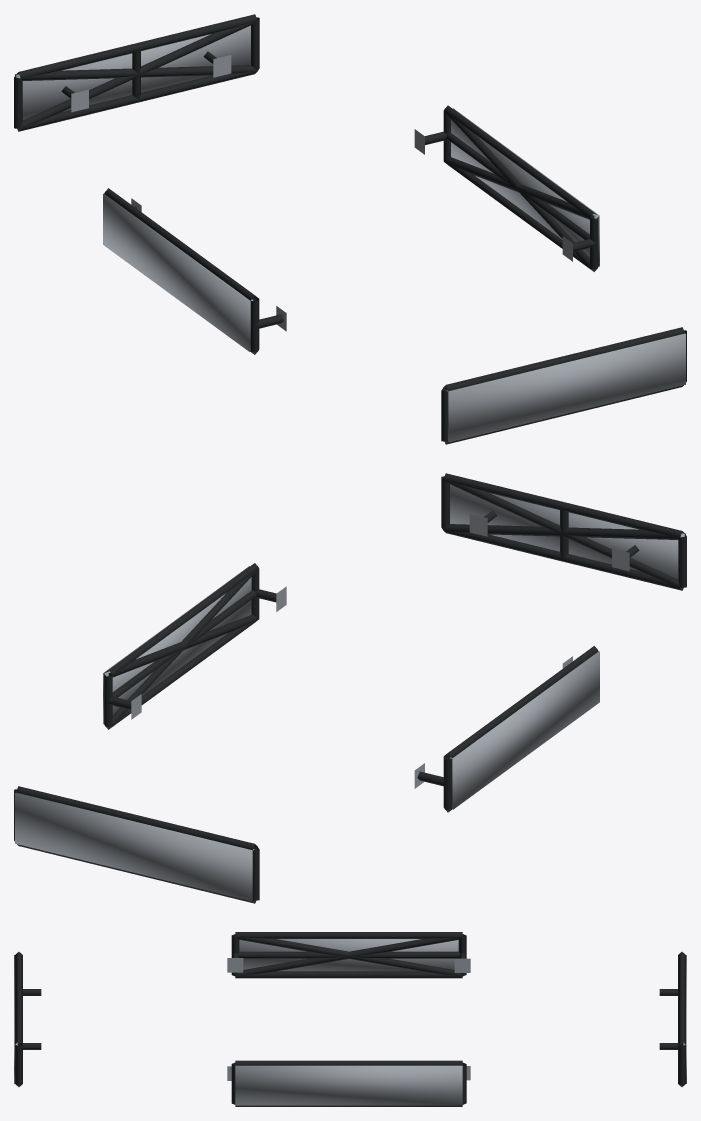
File: vantra_silencio_protecao.glb
The picture shows the model from 3 angles, top to bottom: view 1: azimuth 30°, elevation 25°; view 2: azimuth 150°, elevation 25°; view 3: azimuth 270°, elevation 25°; orthographic projection. The views are drawn at different scales.
Parts seen in each view (by area): view 1: Protection_front_Level3_Details, Protection_left_Level3_Details, Protection_rear_Level1_Details, Protection_rear_Level3_Details, Protection_right_Level1_Details, Protection_rear_Level2_Details, Protection_right_Level2_Details, Protection_right_Level3_Details, Protection_front_Level1_Details, Protection_left_Level1_Details; view 2: Protection_rear_Level3_Details, Protection_left_Level3_Details, Protection_front_Level1_Details, Protection_front_Level3_Details, Protection_right_Level1_Details, Protection_front_Level2_Details, Protection_right_Level2_Details, Protection_right_Level3_Details, Protection_rear_Level1_Details, Protection_left_Level1_Details; view 3: Protection_right_Level3_Details, Protection_left_Level2_Details, Protection_left_Level1_Details, Protection_left_Level3_Details, Protection_right_Level1_Details, Protection_rear_Level1_Details, Protection_front_Level1_Details.
Part boxes in pixels (x1=…): Protection_front_Level3_Details: x1=446, y1=333, x2=685, y2=442; Protection_left_Level3_Details: x1=103, y1=193, x2=253, y2=351; Protection_rear_Level1_Details: x1=14, y1=14, x2=259, y2=131; Protection_rear_Level3_Details: x1=15, y1=25, x2=250, y2=120; Protection_right_Level1_Details: x1=414, y1=105, x2=598, y2=271; Protection_rear_Level2_Details: x1=16, y1=21, x2=256, y2=130; Protection_right_Level2_Details: x1=444, y1=111, x2=596, y2=271; Protection_right_Level3_Details: x1=451, y1=108, x2=599, y2=266; Protection_front_Level1_Details: x1=441, y1=327, x2=686, y2=444; Protection_left_Level1_Details: x1=104, y1=188, x2=286, y2=354; Protection_rear_Level3_Details: x1=15, y1=792, x2=254, y2=901; Protection_left_Level3_Details: x1=449, y1=651, x2=599, y2=809; Protection_front_Level1_Details: x1=441, y1=473, x2=686, y2=590; Protection_front_Level3_Details: x1=450, y1=484, x2=685, y2=579; Protection_right_Level1_Details: x1=104, y1=563, x2=286, y2=729; Protection_front_Level2_Details: x1=444, y1=480, x2=684, y2=589; Protection_right_Level2_Details: x1=105, y1=569, x2=258, y2=728; Protection_right_Level3_Details: x1=103, y1=566, x2=251, y2=724; Protection_rear_Level1_Details: x1=14, y1=786, x2=259, y2=903; Protection_left_Level1_Details: x1=414, y1=646, x2=598, y2=812; Protection_right_Level3_Details: x1=235, y1=1065, x2=462, y2=1105; Protection_left_Level2_Details: x1=235, y1=935, x2=462, y2=976; Protection_left_Level1_Details: x1=227, y1=932, x2=470, y2=978; Protection_left_Level3_Details: x1=239, y1=939, x2=458, y2=971; Protection_right_Level1_Details: x1=227, y1=1060, x2=470, y2=1106; Protection_rear_Level1_Details: x1=659, y1=952, x2=685, y2=1086; Protection_front_Level1_Details: x1=15, y1=952, x2=41, y2=1086.
Bounding box in the file's own units: 2.17 × 0.354 × 4.65.
1 material, 1 textured.
